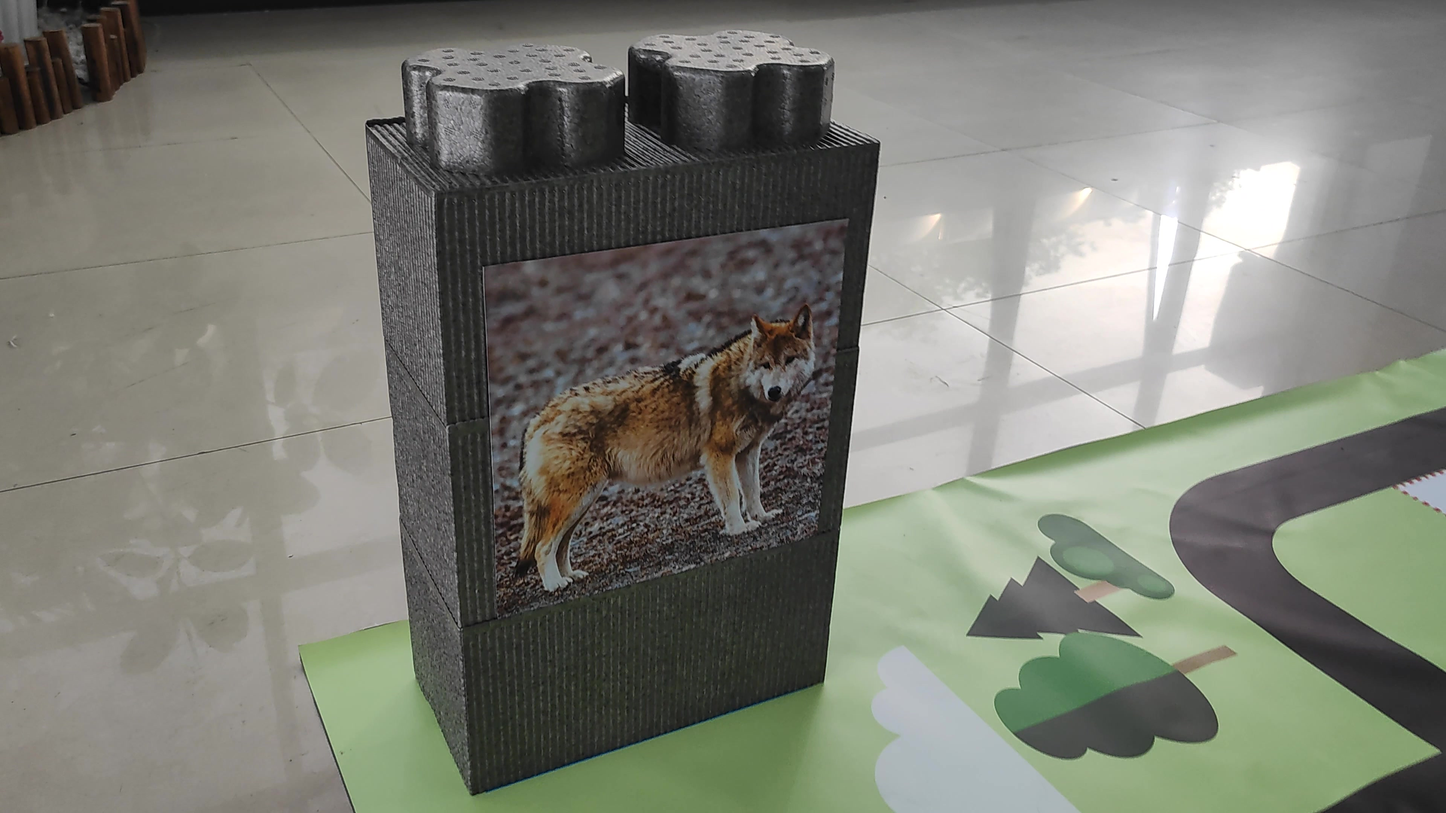wolf: (516, 282, 823, 610)
